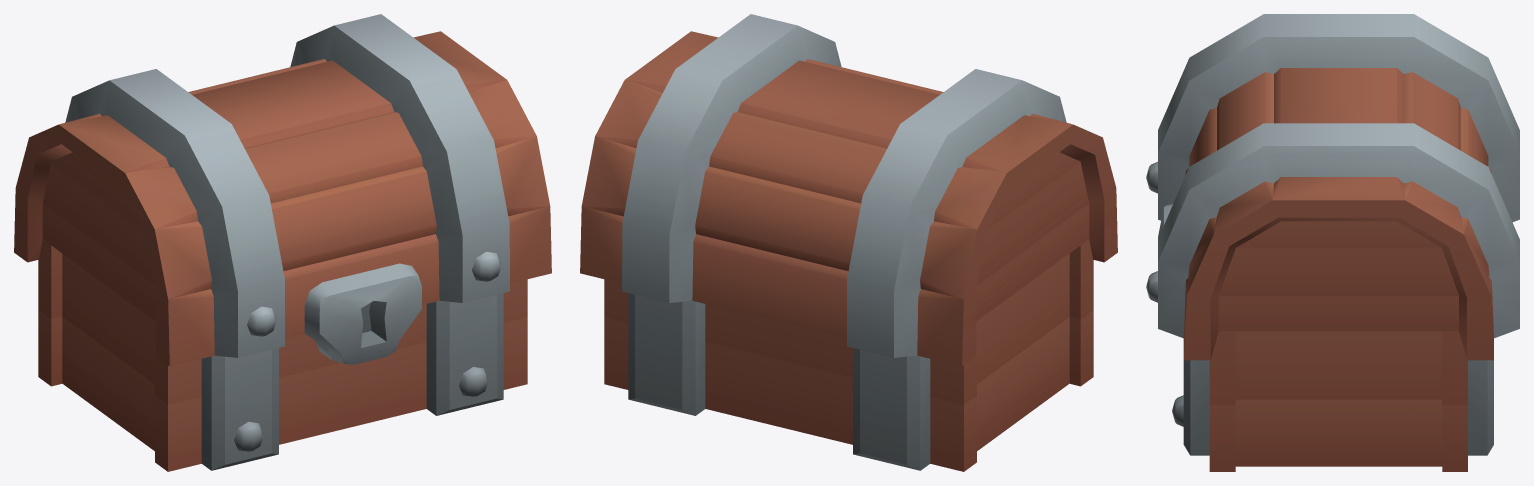
Rendered from chest.glb.
The picture shows the model from 3 angles, left to right: view 1: azimuth 30°, elevation 25°; view 2: azimuth 150°, elevation 25°; view 3: azimuth 270°, elevation 25°; orthographic projection.
Visible parts, largest first — view 1: chest_lid, Cube.11164; view 2: chest_lid, Cube.11164; view 3: chest_lid, Cube.11164.
Part boxes in pixels (<box>): chest_lid: <box>14,14,551,366</box>; Cube.11164: <box>38,239,527,471</box>; chest_lid: <box>580,14,1117,366</box>; Cube.11164: <box>604,239,1093,471</box>; chest_lid: <box>1146,14,1519,360</box>; Cube.11164: <box>1172,331,1493,471</box>.
Size of the model in its own units: 1.7 by 1.3 by 1.45.
Materials: 1 (1 with a texture image).
